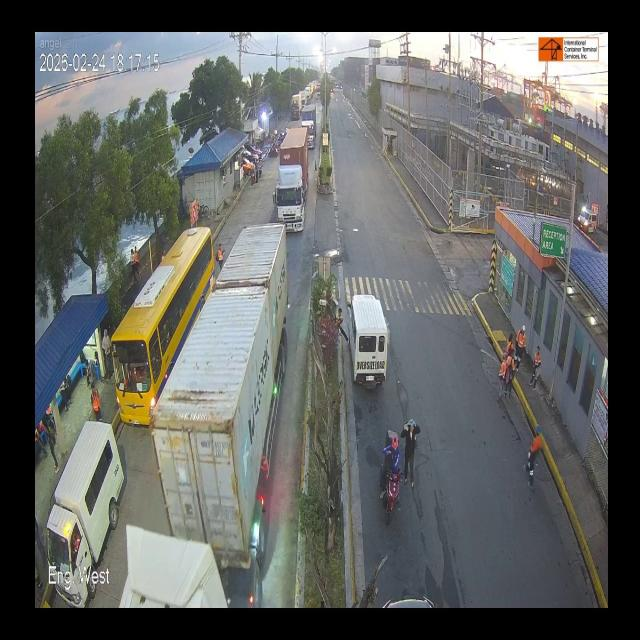bus: (105, 215, 218, 435)
car: (47, 439, 123, 557), (348, 290, 402, 396)
motorcycle: (380, 420, 408, 519)
truck: (116, 222, 299, 606), (270, 120, 316, 238), (301, 103, 319, 155), (287, 91, 302, 119)
